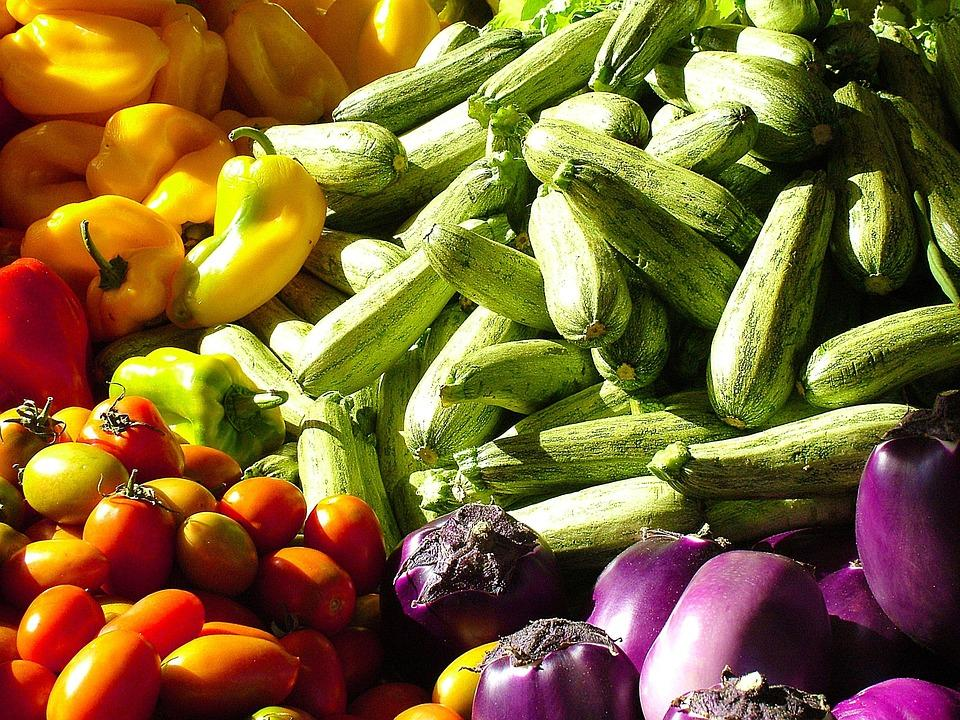bell pepper: (0, 12, 342, 296)
cucumber: (421, 37, 905, 458)
tomato: (7, 451, 417, 720)
